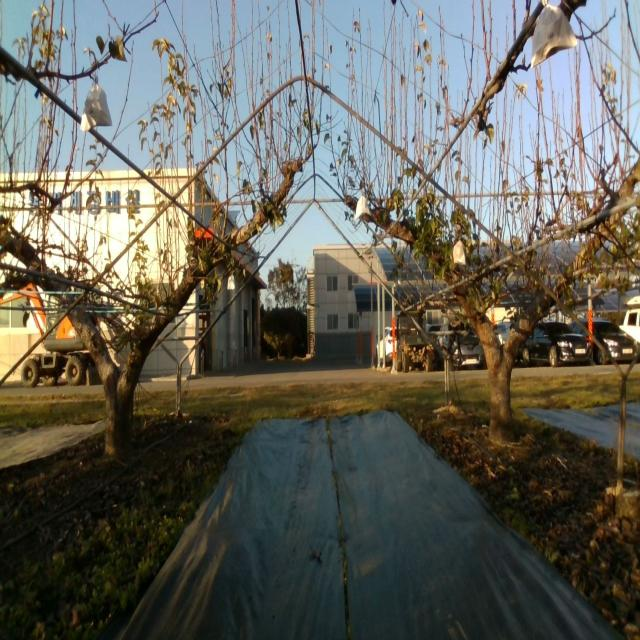pearbags: (531, 0, 578, 69), (79, 73, 113, 134), (354, 196, 372, 220), (453, 237, 466, 266)
